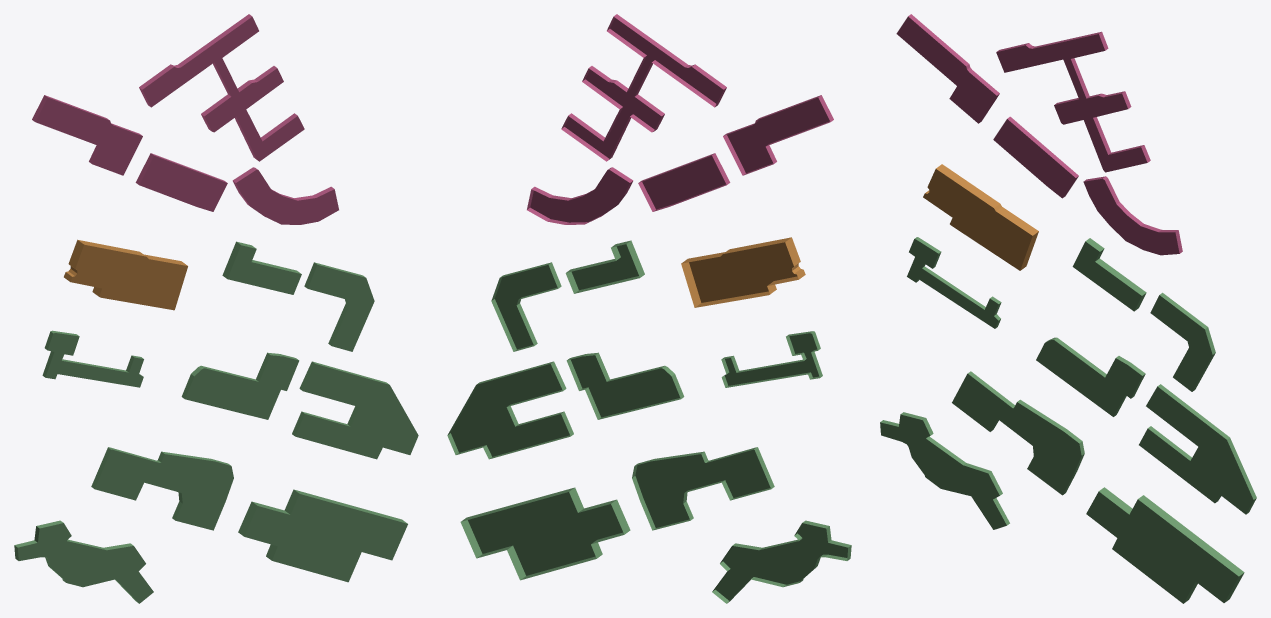
The model's file is buildings_k07.obj.
3 renders of one model, left to right at view 1: azimuth 30°, elevation 25°; view 2: azimuth 150°, elevation 25°; view 3: azimuth 330°, elevation 25°, orthographic. The views are drawn at different scales.
Visible parts, largest first — view 1: roof3, roof1, roof2, zone3, zone1, zone2; view 2: roof3, roof1, zone3, zone1, roof2, zone2; view 3: roof3, roof1, zone3, roof2, zone1, zone2.
Boxes of the visible parts, bbox=[...] form: roof3: bbox=[18, 245, 418, 603]; roof1: bbox=[35, 16, 338, 224]; roof2: bbox=[70, 244, 187, 310]; zone3: bbox=[14, 241, 407, 603]; zone1: bbox=[32, 14, 334, 206]; zone2: bbox=[64, 239, 187, 296]; roof3: bbox=[451, 244, 847, 600]; roof1: bbox=[530, 18, 829, 222]; zone3: bbox=[447, 240, 851, 603]; zone1: bbox=[527, 14, 833, 224]; roof2: bbox=[689, 242, 797, 302]; zone2: bbox=[681, 237, 805, 307]; roof3: bbox=[880, 239, 1253, 603]; roof1: bbox=[896, 16, 1179, 255]; zone3: bbox=[880, 237, 1256, 603]; roof2: bbox=[923, 169, 1032, 270]; zone1: bbox=[908, 14, 1182, 253]; zone2: bbox=[925, 164, 1038, 270].
Bounding box in the file's own units: 289 × 404 × 8.5.
